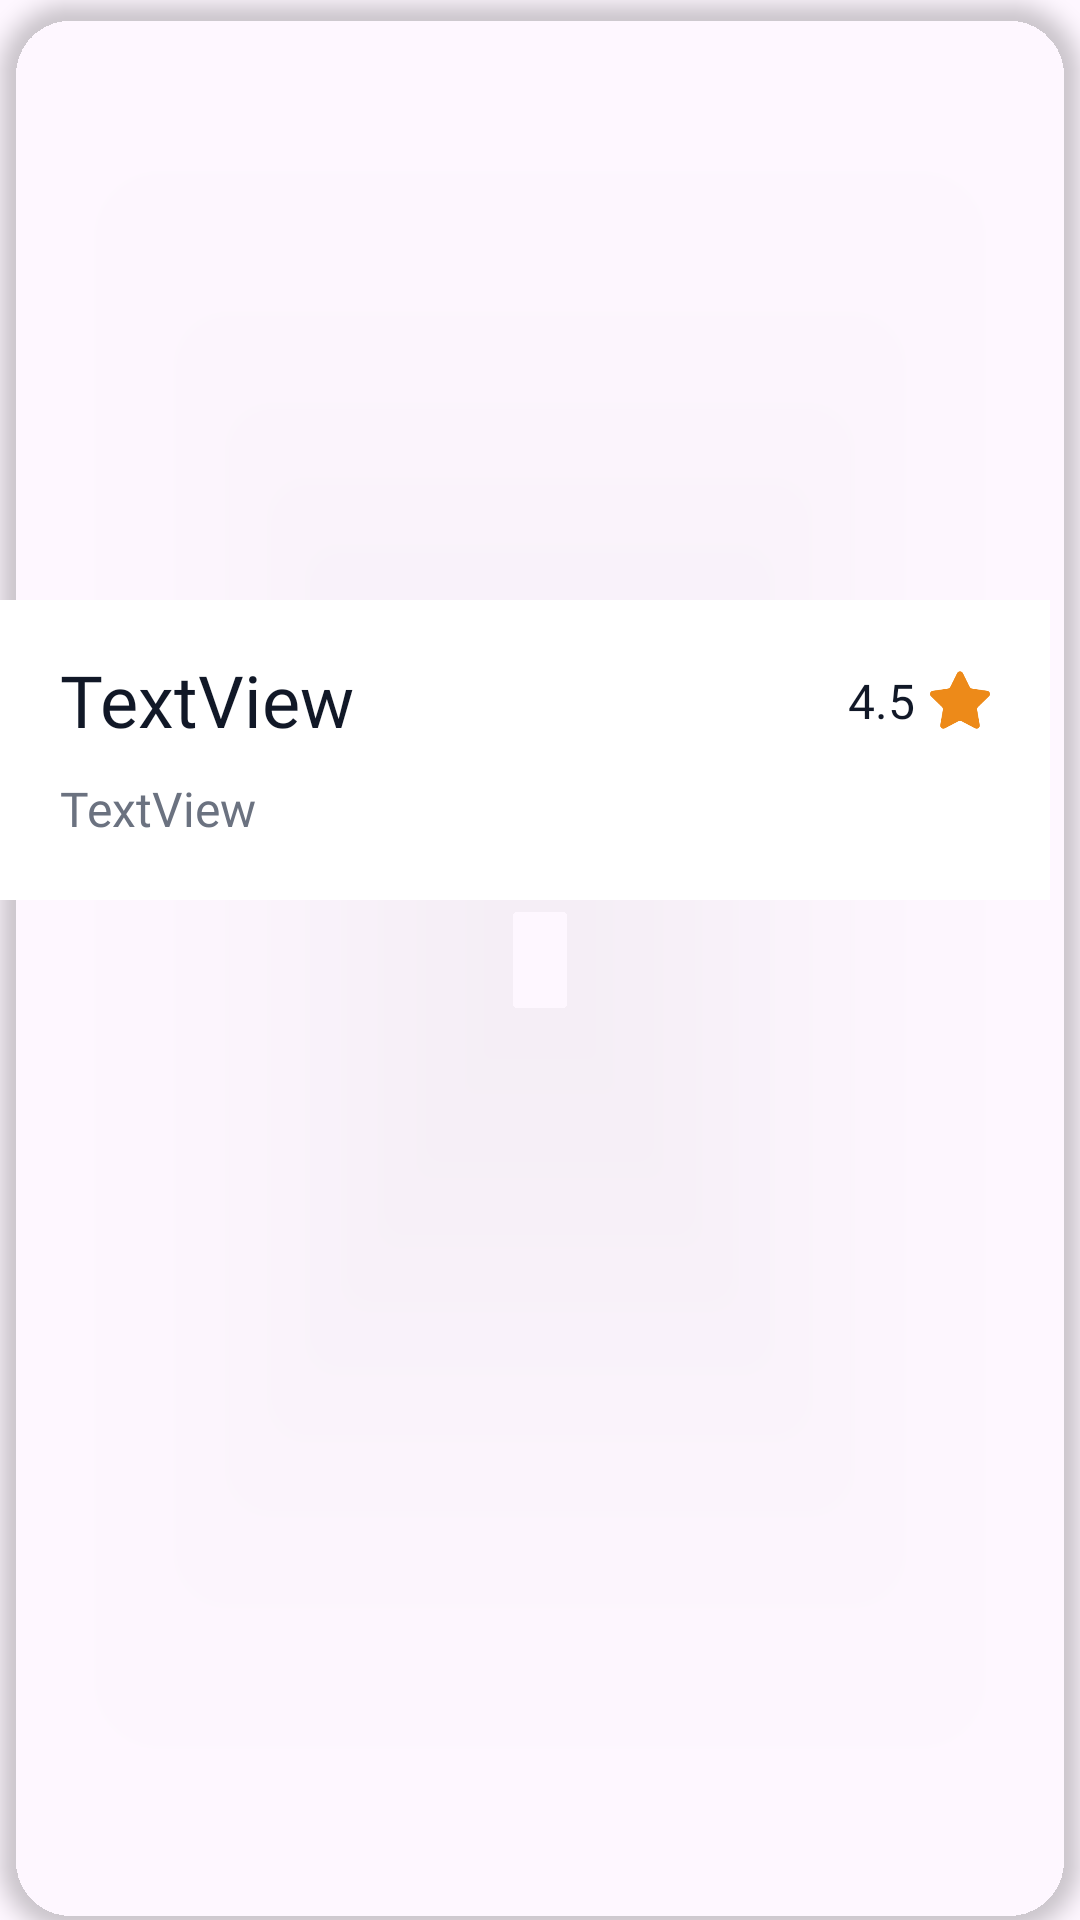

Icon bounding boxes for this 1080 x 1920 phone screenshot, format (x1, y1, x2, y2):
star: (930, 671, 990, 729)
